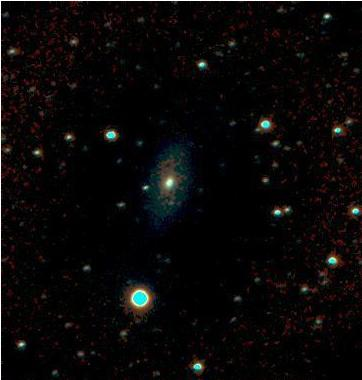star: (161, 185, 191, 215)
